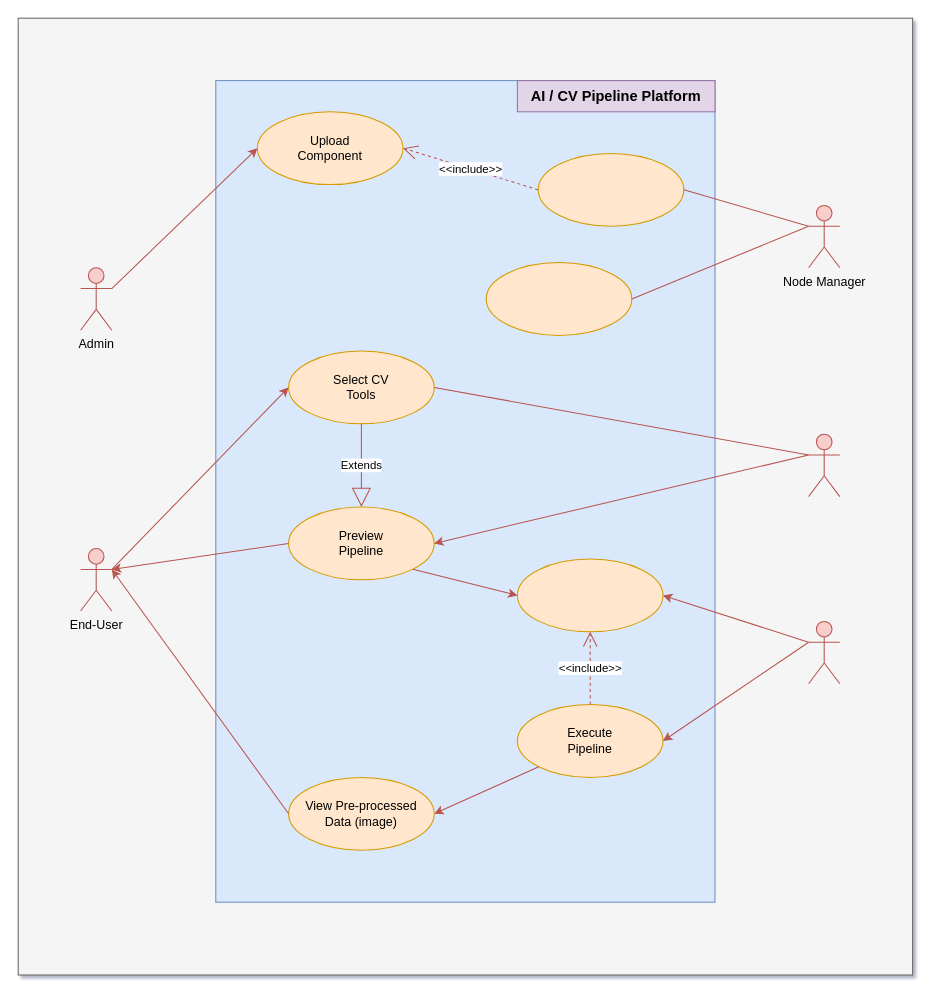
This 937x999 diagram has some shape labels left out. The centre of each missing label's shape, as x and y in pixels:
Deploy Component: point 610,189
Deploy Micro-services: point 558,298
Generate Config.json: point 589,595
Scheduler: point 824,652
UI Manager: point 824,465
